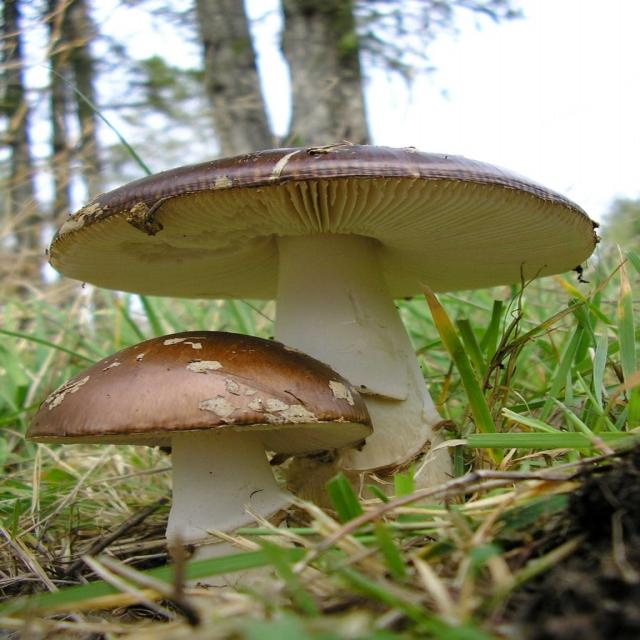Mushroom: (50, 142, 599, 499), (23, 328, 375, 610)
